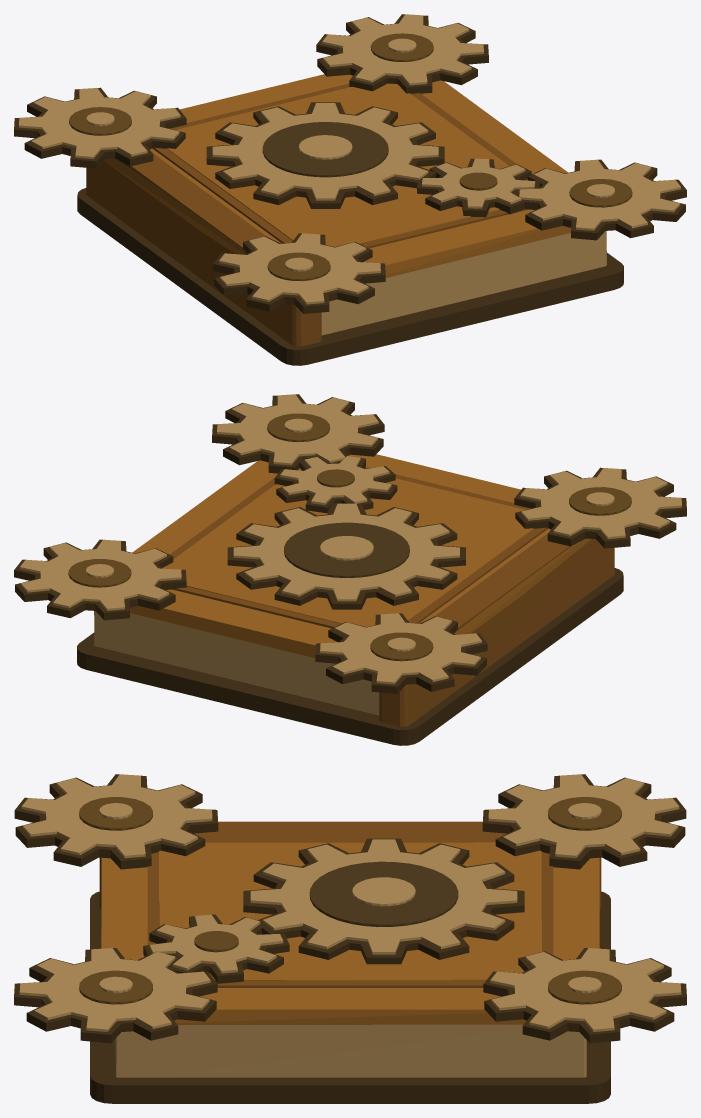
File: book_engrenagem.fbx
3 views of the same model, one above another, from view 1: azimuth 30°, elevation 25°; view 2: azimuth 150°, elevation 25°; view 3: azimuth 270°, elevation 25° (orthographic). The views are drawn at different scales.
Parts seen in each view (by area): view 1: book_engrenagem_livro; view 2: book_engrenagem_livro; view 3: book_engrenagem_livro.
Part boxes in pixels (x1,y1,x2,y2): book_engrenagem_livro: (14, 14, 686, 365); book_engrenagem_livro: (14, 394, 686, 745); book_engrenagem_livro: (14, 774, 686, 1103).
Bounding box in the file's own units: 3.32 × 0.647 × 3.62.
Materials: 1 (1 with a texture image).
